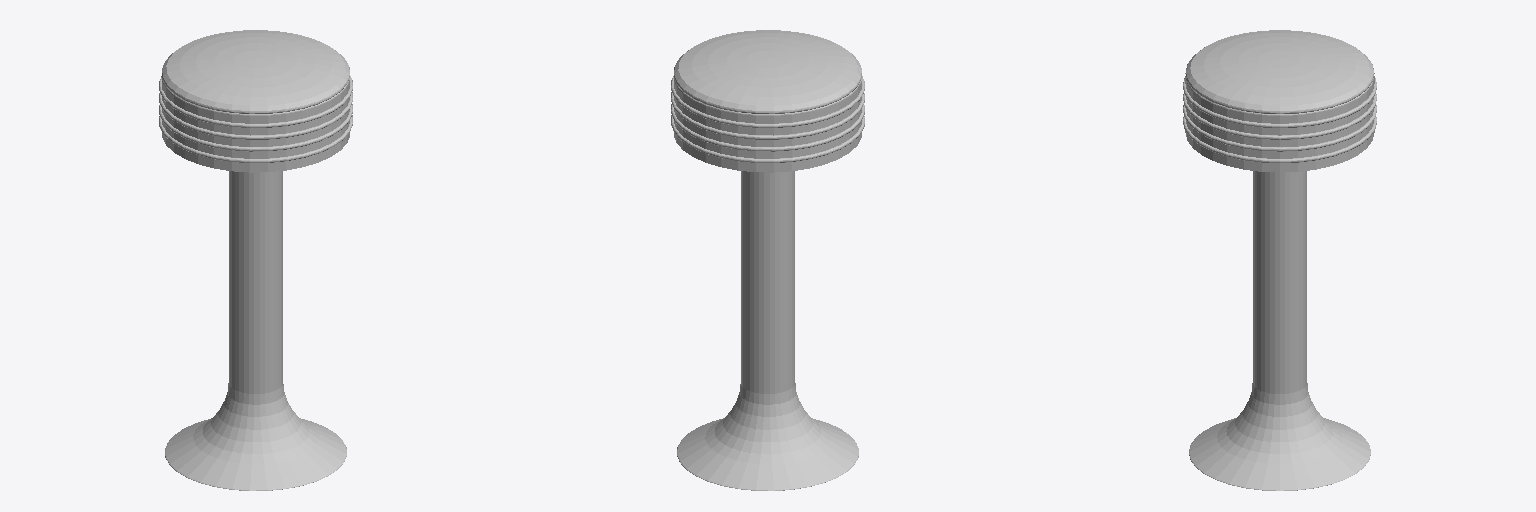
Rendered from StoolRound.obj.
The picture shows the model from 3 angles: view 1: azimuth 30°, elevation 25°; view 2: azimuth 150°, elevation 25°; view 3: azimuth 270°, elevation 25°; orthographic projection.
Parts seen in each view (by area): view 1: round_seat; view 2: round_seat; view 3: round_seat.
Boxes of the visible parts, <box> form: round_seat: <box>159,30,352,490</box>; round_seat: <box>671,30,864,490</box>; round_seat: <box>1183,30,1376,490</box>.
Bounding box in the file's own units: 0.3587 × 0.801 × 0.3587.